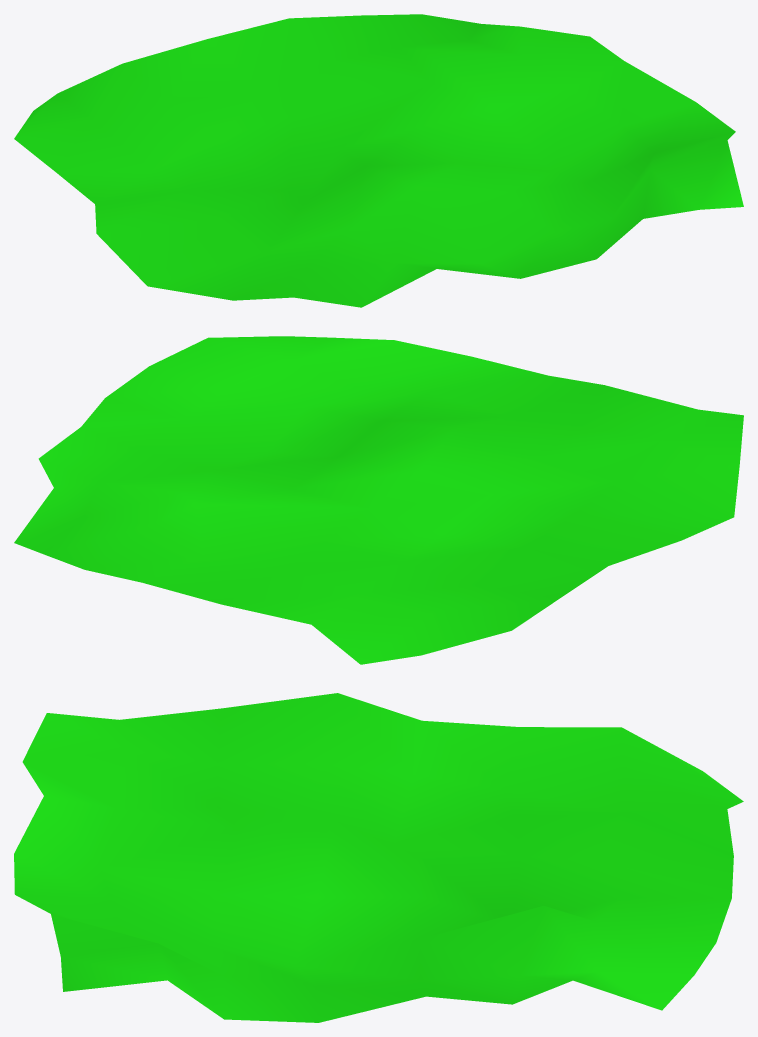
Rendered from lechuga.glb.
3 views of the same model, one above another, from view 1: azimuth 30°, elevation 25°; view 2: azimuth 150°, elevation 25°; view 3: azimuth 270°, elevation 25° (orthographic). The views are drawn at different scales.
Visible parts, largest first — view 1: Plano; view 2: Plano; view 3: Plano.
Boxes of the visible parts, x1,y1,x2,y2 form: Plano: [14, 14, 743, 307]; Plano: [14, 336, 743, 664]; Plano: [14, 693, 743, 1022].
Bounding box in the file's own units: 3.74 × 0.2746 × 3.57.
